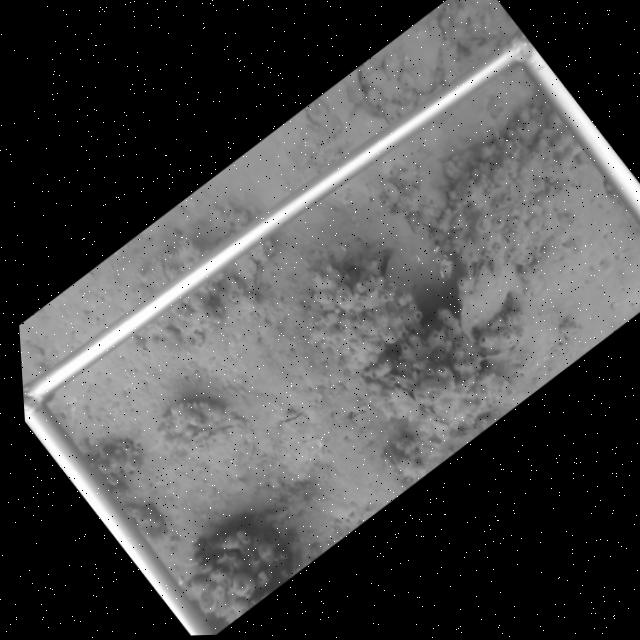Oyster-Indeterminate: (456, 253, 528, 346), (400, 20, 444, 93)
